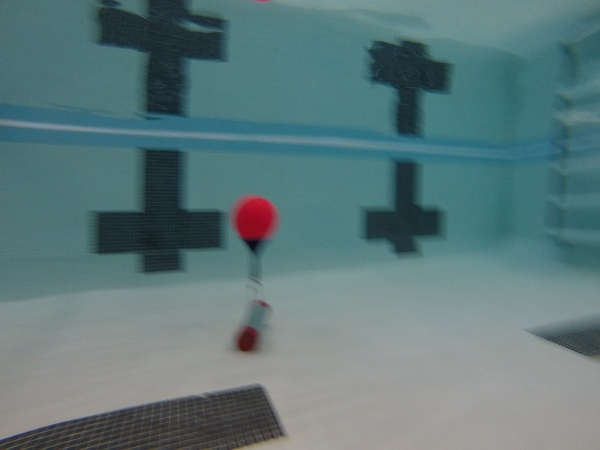buoy_red: (230, 191, 279, 257)
